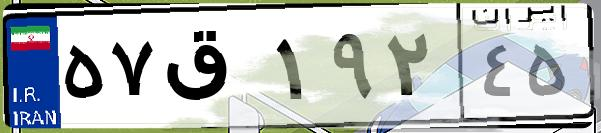1: (270, 28, 330, 110)
2: (385, 28, 445, 110)
4: (475, 38, 525, 113)
5: (57, 26, 110, 100), (525, 38, 570, 115)
7: (110, 28, 158, 98)
9: (330, 28, 385, 110)
ق: (158, 20, 270, 120)
